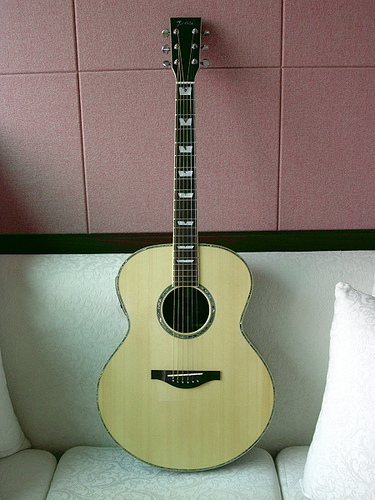guitar: (93, 15, 276, 475)
